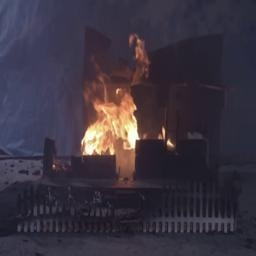fire: (75, 58, 148, 175)
